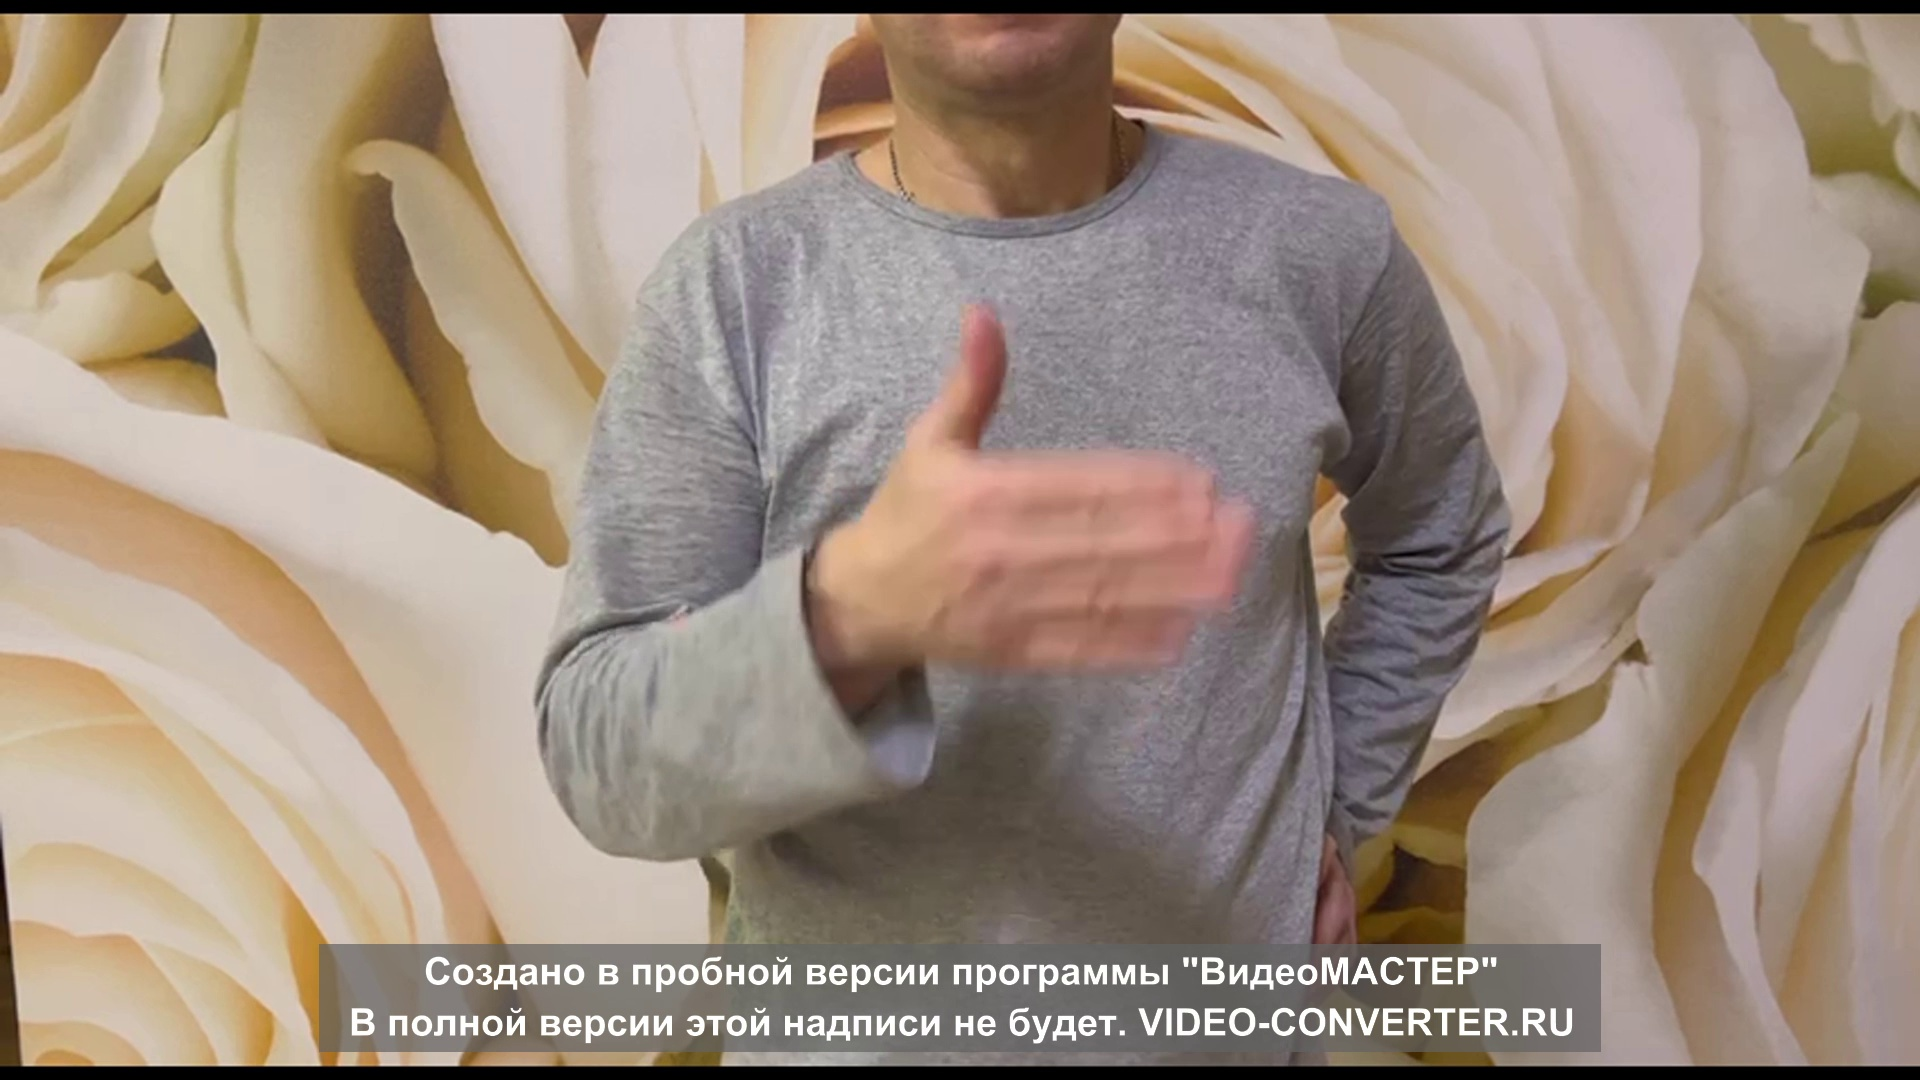Кисть: (881, 299, 1255, 684)
